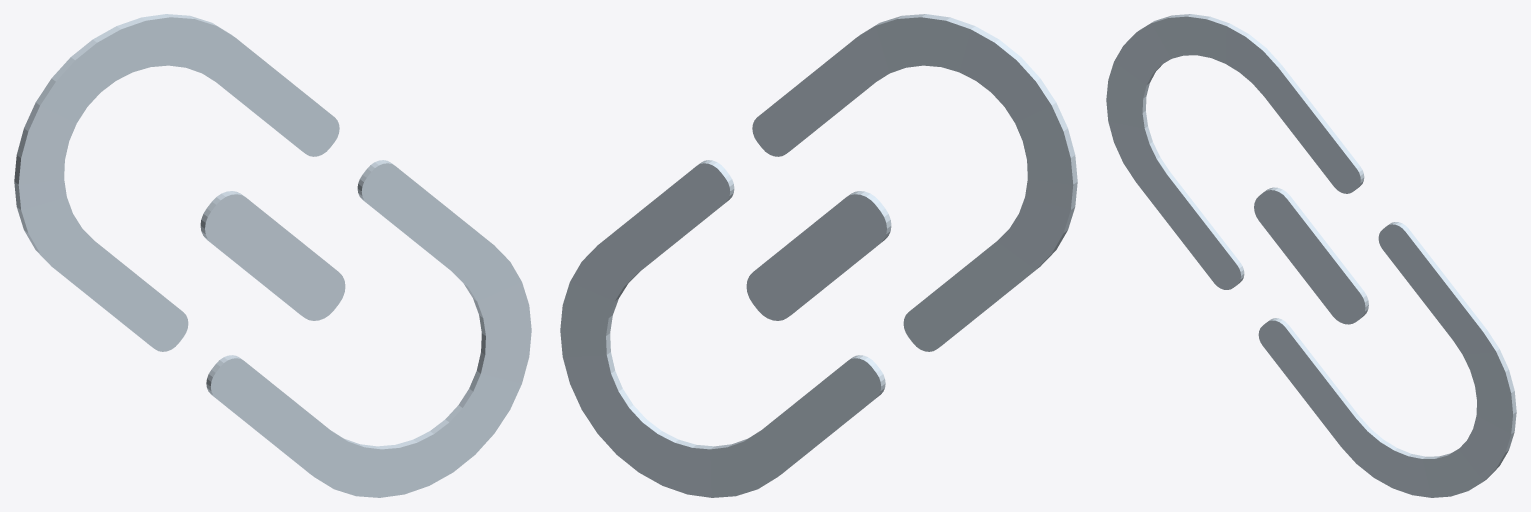
The model's file is Link_3D_Icon_02.fbx.
3 renders of one model, left to right at view 1: azimuth 30°, elevation 25°; view 2: azimuth 150°, elevation 25°; view 3: azimuth 330°, elevation 25°, orthographic. The views are drawn at different scales.
Parts seen in each view (by area): view 1: Link_3D_Icon_02; view 2: Link_3D_Icon_02; view 3: Link_3D_Icon_02.
Boxes of the visible parts, x1,y1,x2,y2 form: Link_3D_Icon_02: [14, 14, 531, 497]; Link_3D_Icon_02: [560, 14, 1077, 497]; Link_3D_Icon_02: [1106, 14, 1516, 497].
Size of the model in its own units: 132 by 132 by 2.
